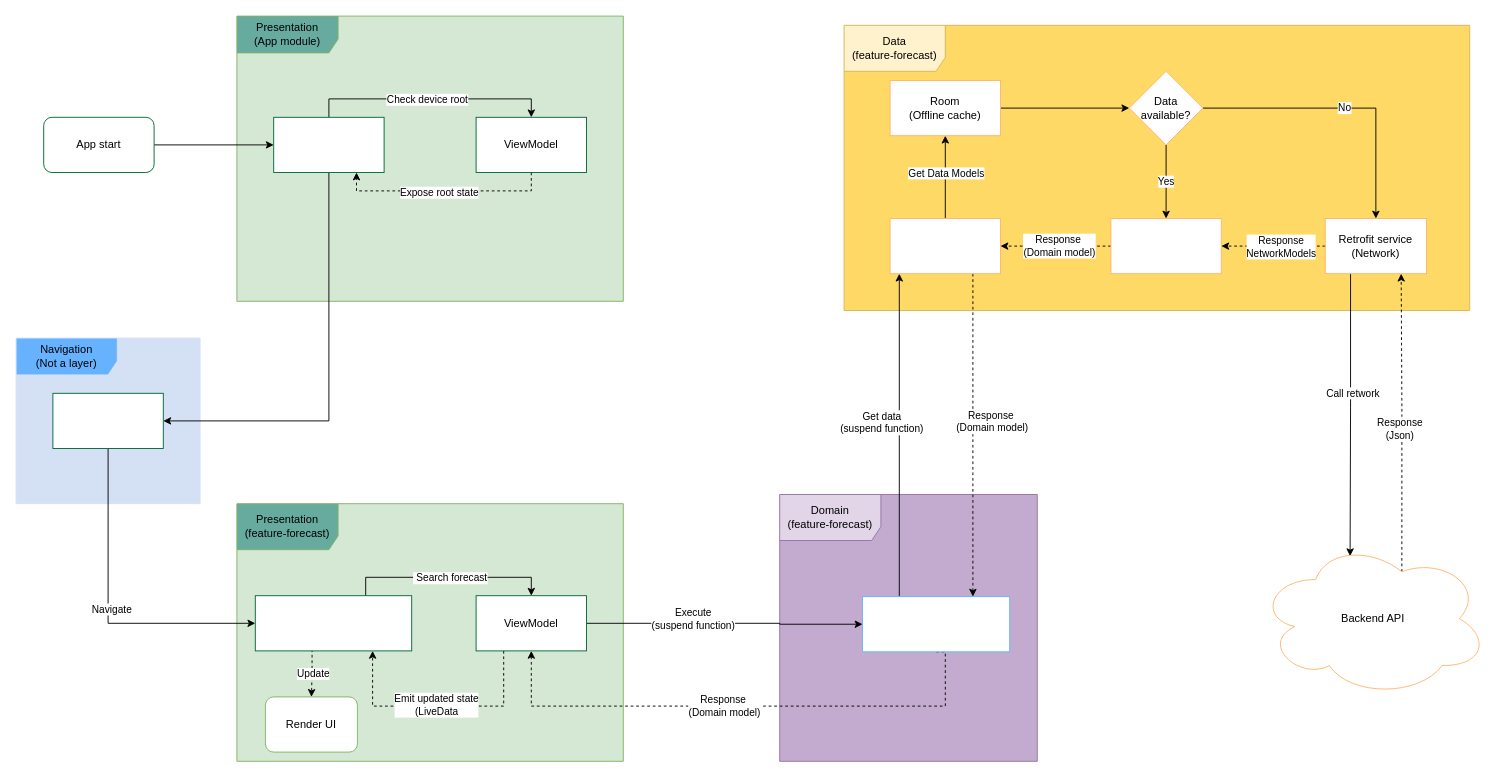
Some shapes in this 1504 by 777 pixel diagram are drawn without their labels. The centre of each missing label's shape, as x and y in pixels:
ForecastFragment: pixel 333 623
Mapper: pixel 1165 246
NavHost HomeActivity: pixel 328 144
NavHostFragment: pixel 107 420
Repository: pixel 944 246
UseCase (Execute bussiness logic): pixel 936 624
